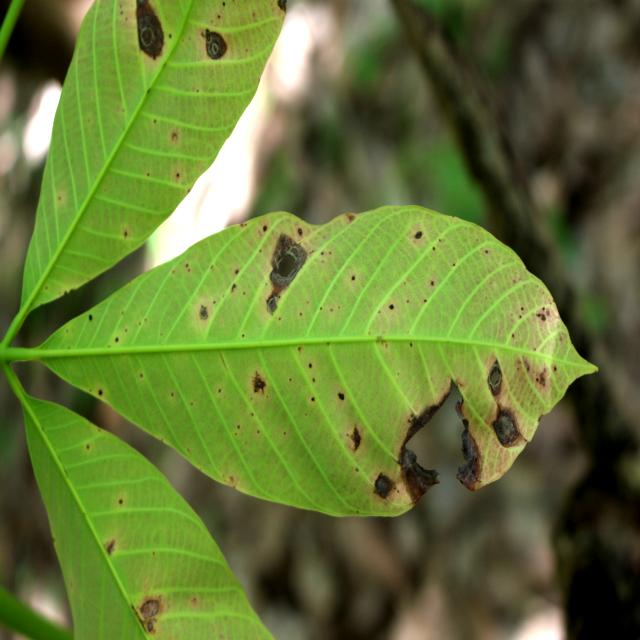Colletotrichum: (493, 414, 515, 445), (206, 31, 227, 60), (373, 473, 392, 498), (266, 297, 278, 315), (414, 231, 422, 239)
